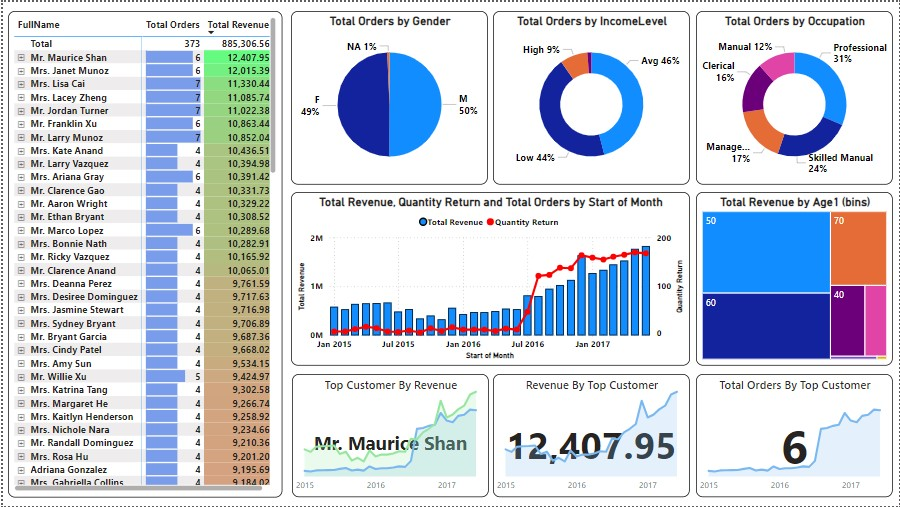

This screenshot's page, from the dashboard's own definition file:
{"tool":"powerbi","page":{"name":"Customer Details","canvas":[1280,720],"ordinal":3},"visuals":[{"type":"card","title":"Revenue By Top Customer","fields":{"Values":["Calculated Measures.Total Revenue"]},"box":[700.2,530.8,280.9,176.5],"z":0},{"type":"areaChart","fields":{"Y":["Calculated Measures.Total Revenue"],"Category":["AW_Calendar_Dim.Start of Month"]},"box":[700.2,530.8,280.9,176.5],"z":1000},{"type":"pivotTable","fields":{"Rows":["AW_Customers_Dim.FullName","AW_Products_Dim.ProductName","AW_Products_Dim.ProductSKU","AW_Products_Dim.SKUType1"],"Values":["Calculated Measures.Total Orders","Calculated Measures.Total Revenue"]},"box":[7.1,12.7,392.5,694.6],"z":2000},{"type":"pieChart","fields":{"Category":["AW_Customers_Dim.Gender"],"Y":["Calculated Measures.Total Orders"]},"box":[411.6,13,281.2,247.8],"z":3000},{"type":"donutChart","fields":{"Y":["Calculated Measures.Total Orders"],"Category":["AW_Customers_Dim.IncomeLevel"]},"box":[700,13,281.2,247.8],"z":4000},{"type":"donutChart","fields":{"Y":["Calculated Measures.Total Orders"],"Category":["AW_Customers_Dim.Occupation"]},"box":[989.9,13,281.2,247.8],"z":5000},{"type":"lineStackedColumnComboChart","fields":{"Y":["Calculated Measures.Total Revenue"],"Y2":["Calculated Measures.Quantity Return"],"Category":["AW_Calendar_Dim.Start of Month"]},"box":[411.6,271,569.6,247.8],"z":6000},{"type":"treemap","fields":{"Values":["Calculated Measures.Total Revenue"],"Group":["AW_Customers_Dim.Age1 (bins)"]},"box":[989.9,271,281.2,247.8],"z":7000},{"type":"card","title":"Top Customer By Revenue","fields":{"Values":["Min(AW_Customers_Dim.FullName)"]},"box":[412.2,530.8,280.9,176.5],"z":8000},{"type":"card","title":"Total Orders By Top Customer","fields":{"Values":["Calculated Measures.Total Orders"]},"box":[989.6,530.8,280.9,176.5],"z":9000},{"type":"areaChart","fields":{"Y":["Calculated Measures.Total Orders"],"Category":["AW_Calendar_Dim.Start of Month.Variation.Date Hierarchy.Year","AW_Calendar_Dim.Start of Month.Variation.Date Hierarchy.Quarter","AW_Calendar_Dim.Start of Month.Variation.Date Hierarchy.Month","AW_Calendar_Dim.Start of Month.Variation.Date Hierarchy.Day"]},"box":[989.6,530.8,280.9,176.5],"z":10000},{"type":"areaChart","fields":{"Y":["Calculated Measures.Total Orders"],"Category":["AW_Calendar_Dim.Start of Month"],"Y2":["Calculated Measures.Total Revenue"]},"box":[412.2,530.8,280.9,176.5],"z":11000}]}

Visuals, with their boxes in screenshot pixels (x1, y1, x2, y2), scaled from the page's 1280x720 canvas onto the 900x507 screenshot:
"Revenue By Top Customer" card: l=492, t=374, r=690, b=498
areaChart - Calculated Measures.Total Revenue x AW_Calendar_Dim.Start of Month: l=492, t=374, r=690, b=498
pivotTable - AW_Customers_Dim.FullName x AW_Products_Dim.ProductName: l=5, t=9, r=281, b=498
pieChart - AW_Customers_Dim.Gender x Calculated Measures.Total Orders: l=289, t=9, r=487, b=184
donutChart - Calculated Measures.Total Orders x AW_Customers_Dim.IncomeLevel: l=492, t=9, r=690, b=184
donutChart - Calculated Measures.Total Orders x AW_Customers_Dim.Occupation: l=696, t=9, r=894, b=184
lineStackedColumnComboChart - Calculated Measures.Total Revenue x Calculated Measures.Quantity Return: l=289, t=191, r=690, b=365
treemap - Calculated Measures.Total Revenue x AW_Customers_Dim.Age1 (bins): l=696, t=191, r=894, b=365
"Top Customer By Revenue" card: l=290, t=374, r=487, b=498
"Total Orders By Top Customer" card: l=696, t=374, r=893, b=498
areaChart - Calculated Measures.Total Orders x AW_Calendar_Dim.Start of Month.Variation.Date Hierarchy.Year: l=696, t=374, r=893, b=498
areaChart - Calculated Measures.Total Orders x AW_Calendar_Dim.Start of Month: l=290, t=374, r=487, b=498
